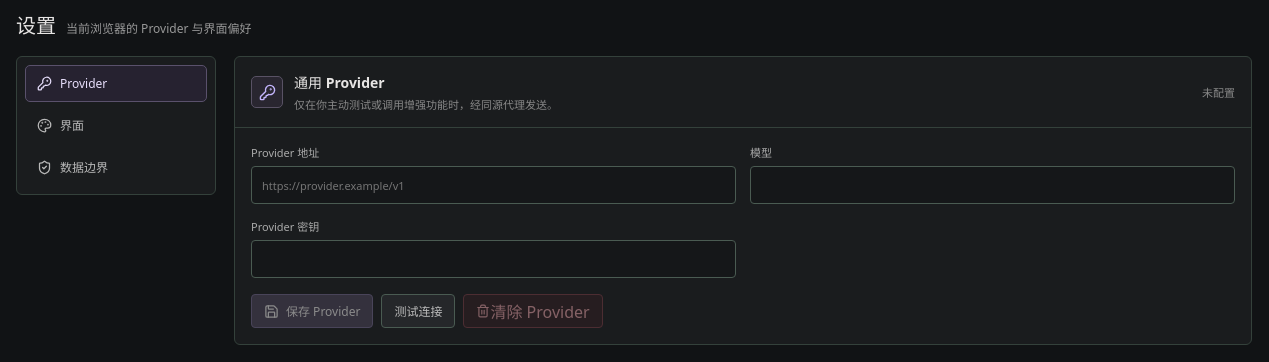
it: SettingsPage › shows a recoverable alert when interface persistence fails
Click the button "界面" at (116, 125), box [25,106,207,144]
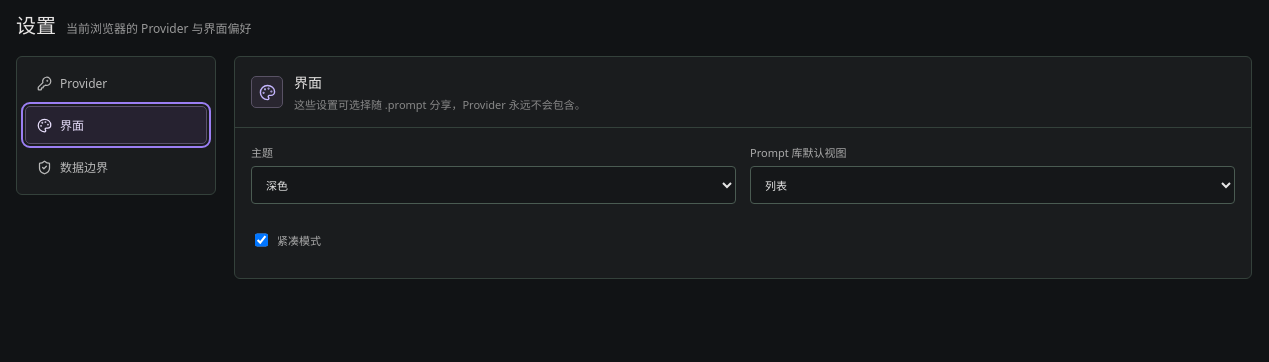
Select "浅色" in the dropdown labelled "主题" at (494, 185), box [251,166,736,204]
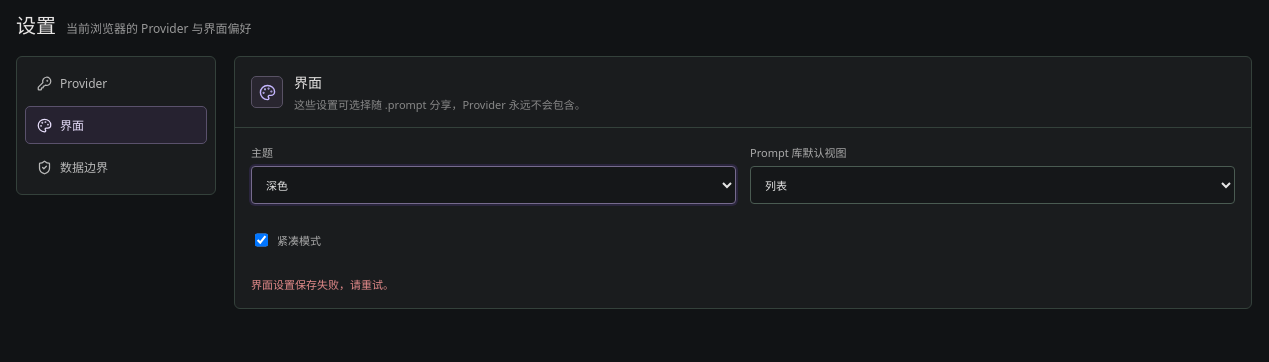
Result: the dropdown labelled "主题" is enabled at [251,166,736,204]
Result: the message shows "界面设置保存失败" at [251,277,394,292]
